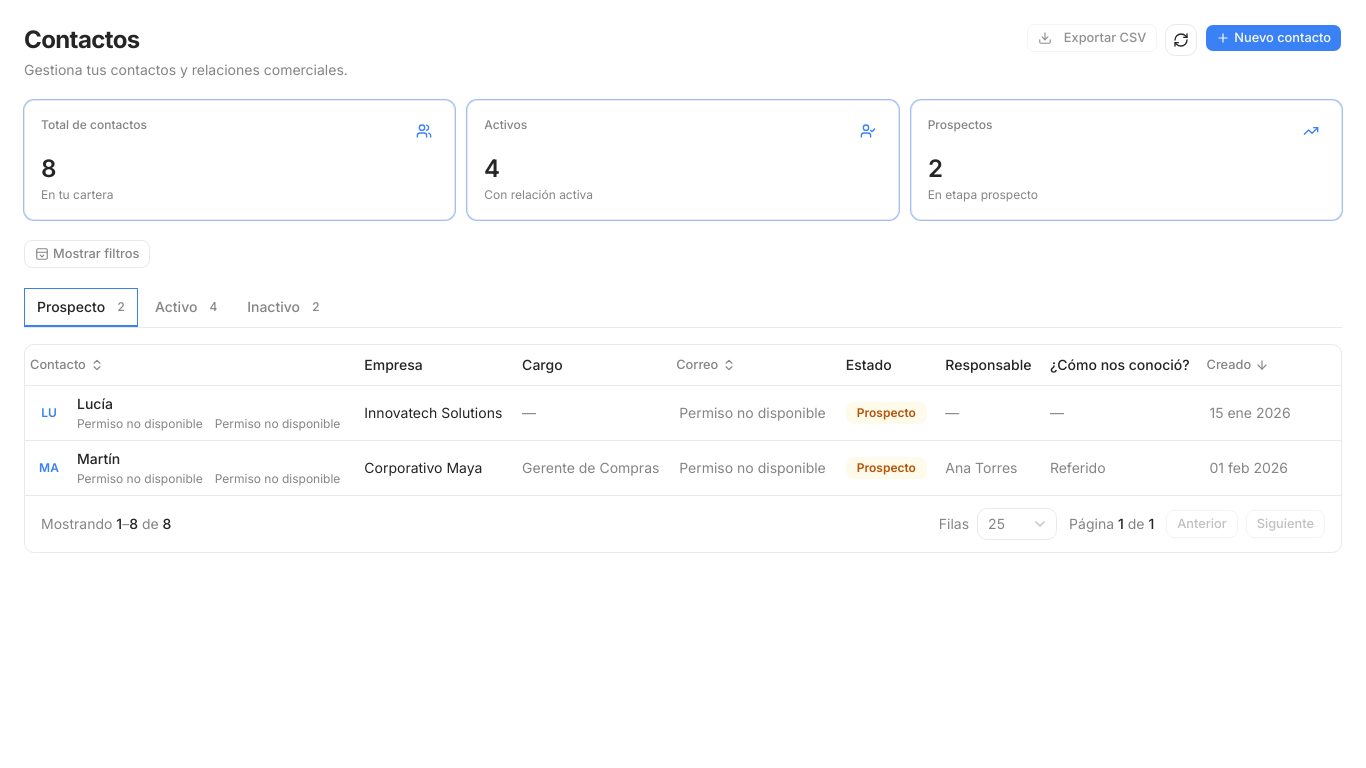
Test case: ContactosPage › cambia al tab ACTIVO y filtra correctamente
Check: the link "Lucía" is shown, box [77,394,113,412]
Click the tab "Activo 4" at (186, 308), box [142,288,230,327]
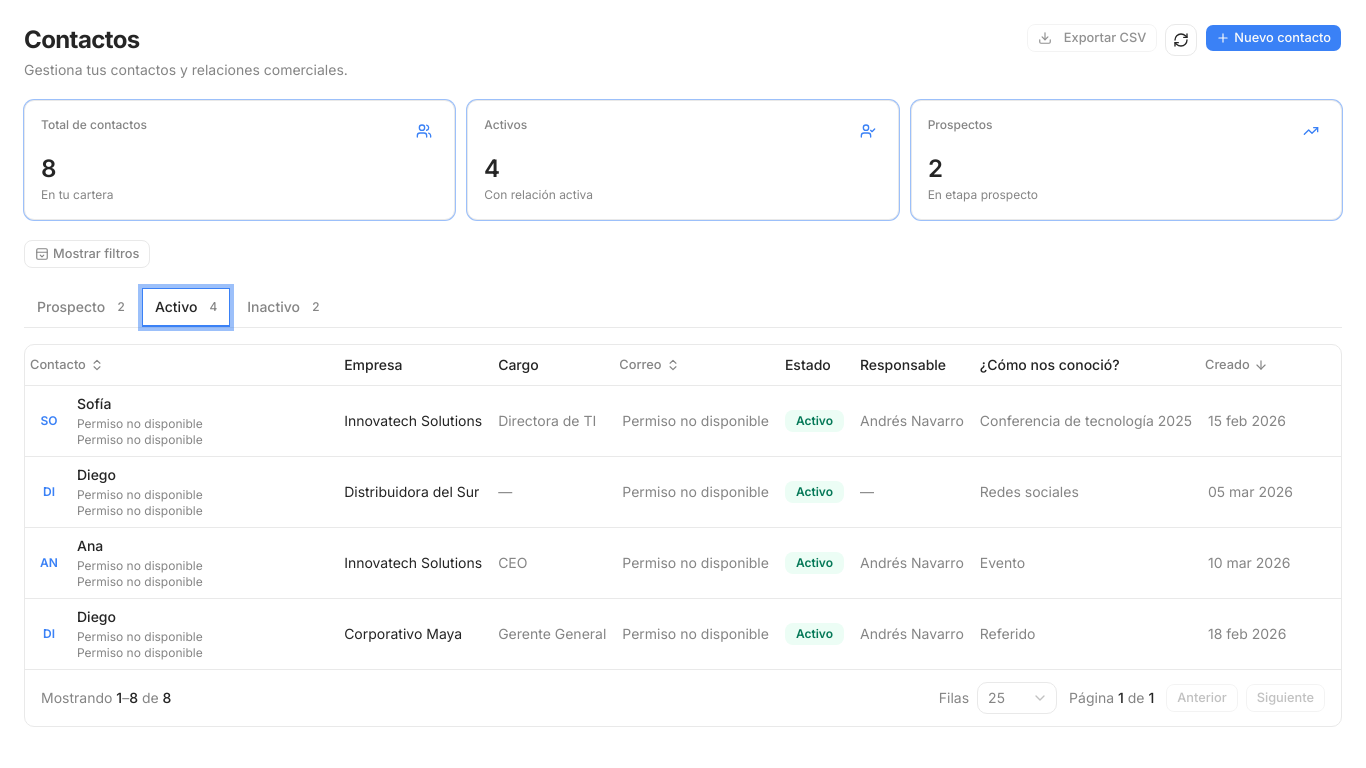
Check: the link "Sofía" is shown, box [77,394,111,412]
Check: the link "Lucía" is gone
